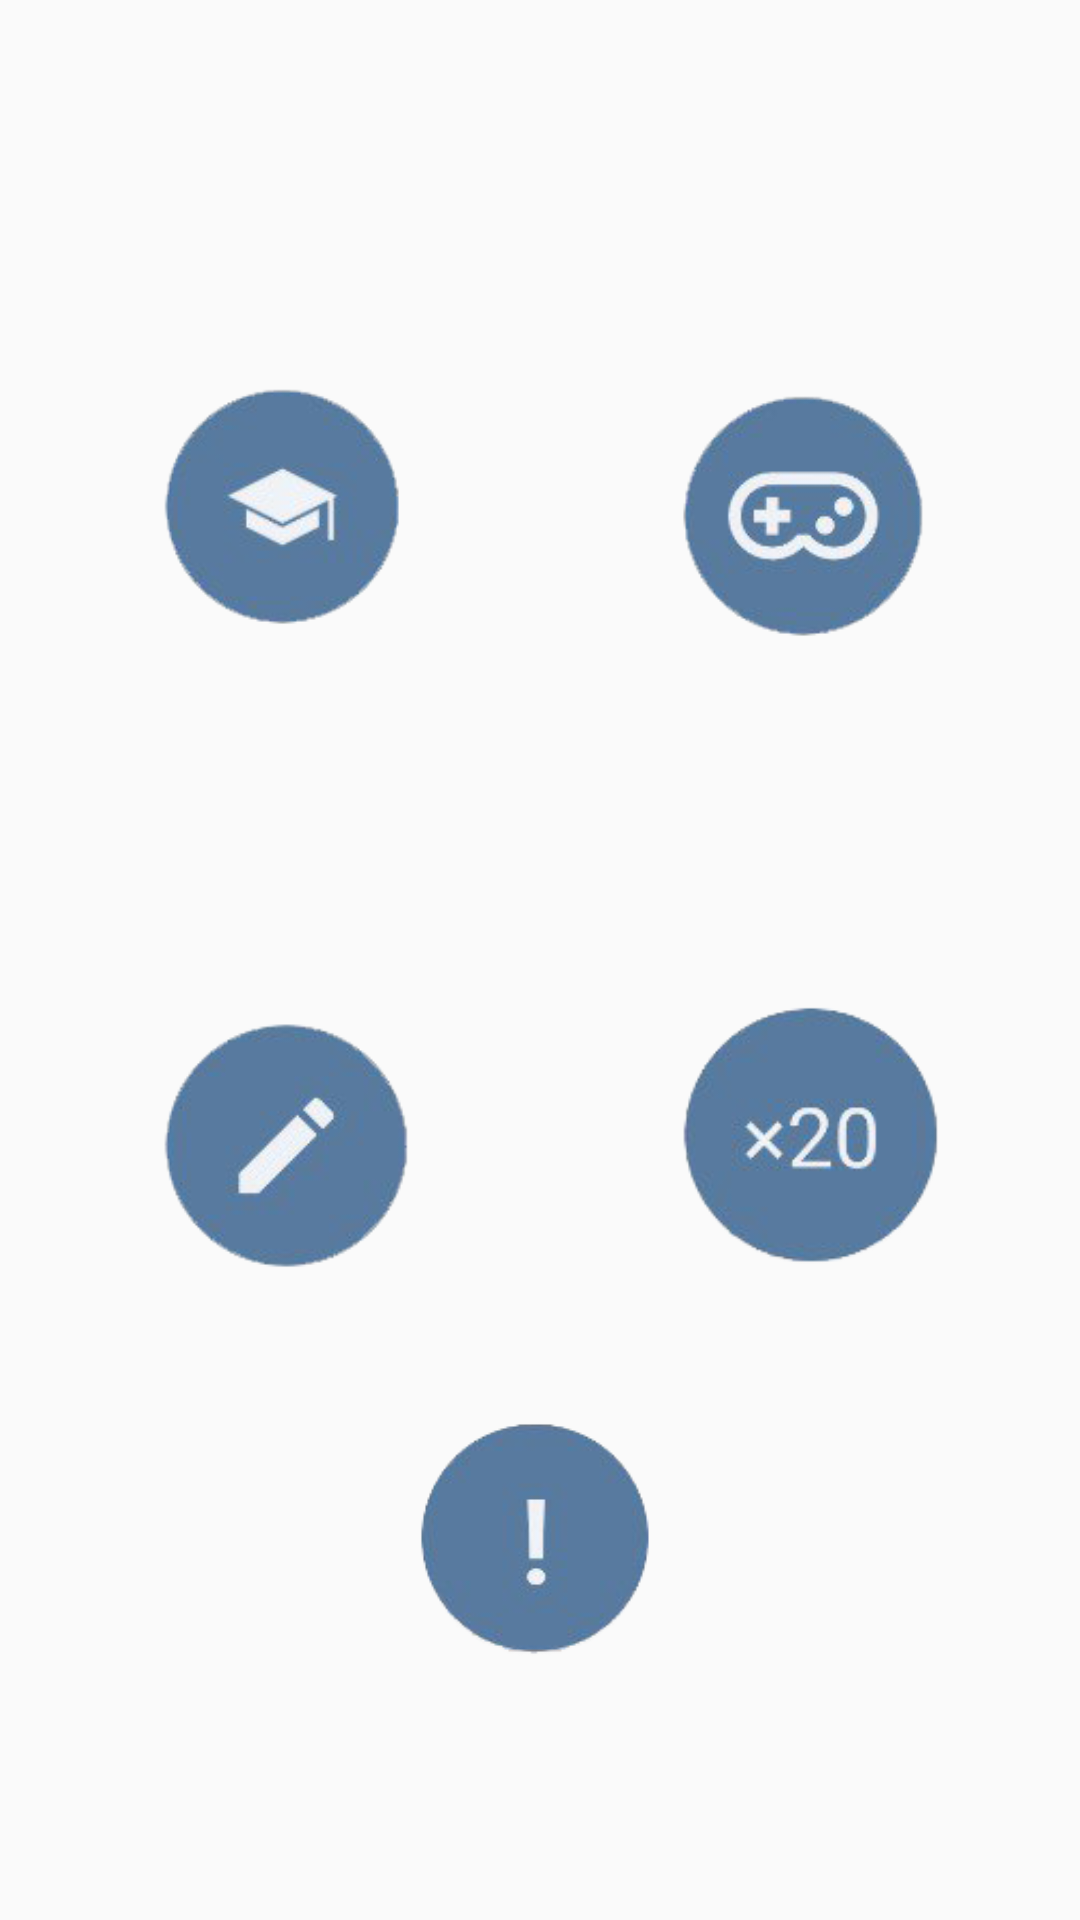

Where to tap for icons on this 1080px×1920px app screen, as [x,y]:
icbut: [286,1145]
icchamthan: [535,1539]
icgame: [802,516]
icmu: [282,507]
